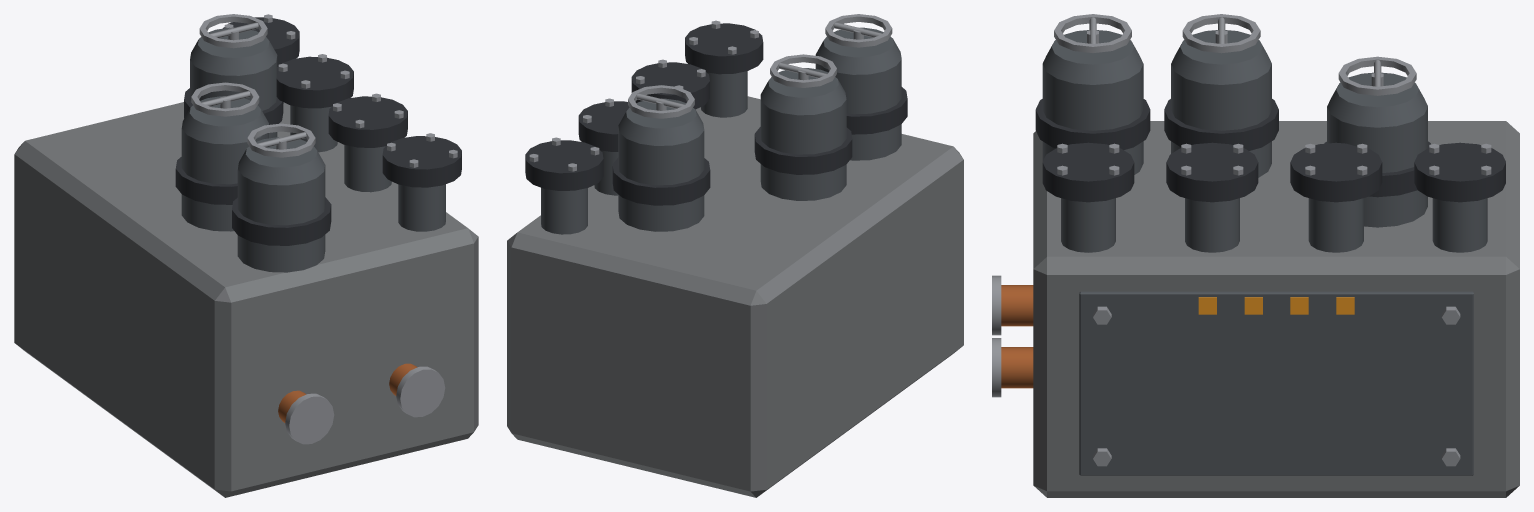
The model's file is cl180_valves.obj.
The picture shows the model from 3 angles, left to right: view 1: azimuth 30°, elevation 25°; view 2: azimuth 150°, elevation 25°; view 3: azimuth 270°, elevation 25°; orthographic projection. The views are drawn at different scales.
Visible parts, largest first — view 1: cl180_valves; view 2: cl180_valves; view 3: cl180_valves.
Boxes of the visible parts, x1=… form: cl180_valves: x1=14, y1=14, x2=478, y2=497; cl180_valves: x1=507, y1=14, x2=963, y2=497; cl180_valves: x1=992, y1=14, x2=1519, y2=497.
Size of the model in its own units: 0.786 by 0.9 by 1.15.
